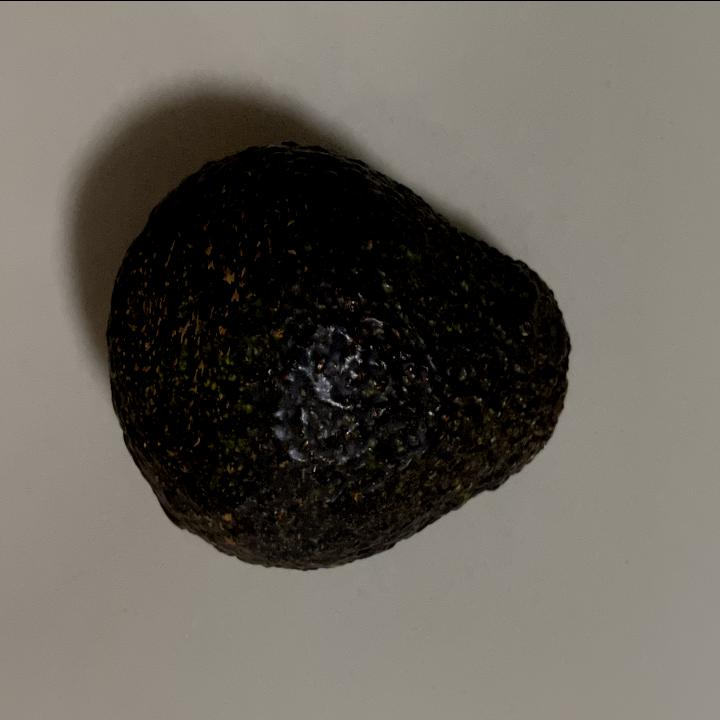Level1: (94, 127, 590, 584)
